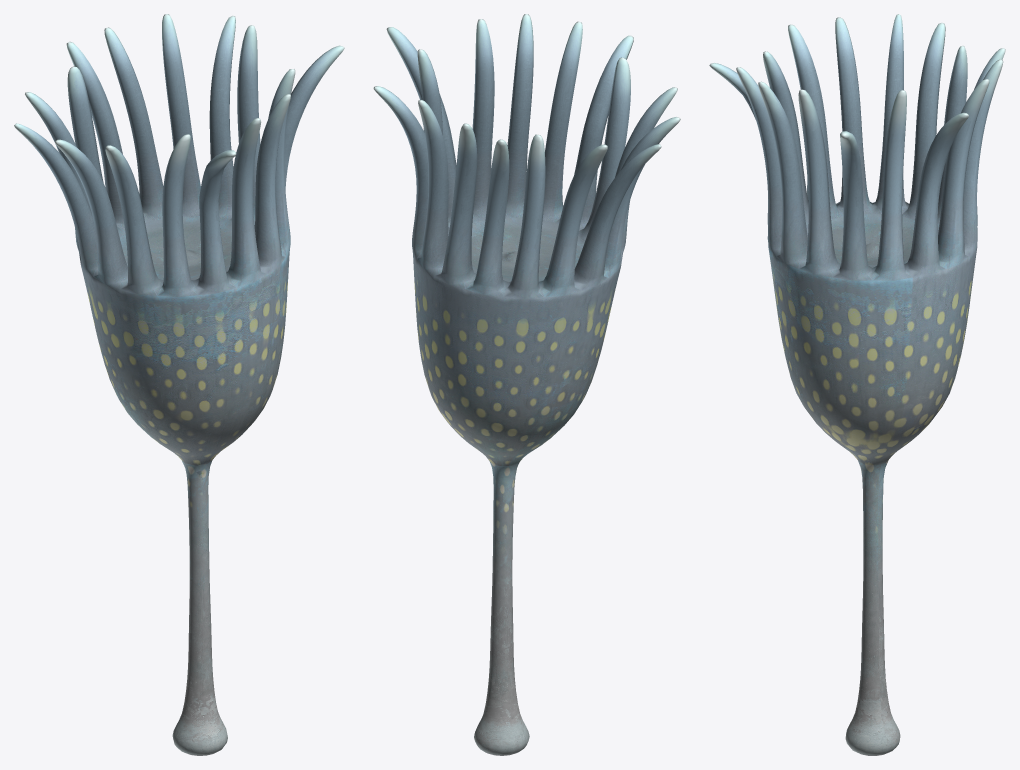
3 renders of one model, left to right at view 1: azimuth 30°, elevation 25°; view 2: azimuth 150°, elevation 25°; view 3: azimuth 270°, elevation 25°, orthographic.
Visible parts, largest first — view 1: Object_2; view 2: Object_2; view 3: Object_2.
Boxes of the visible parts, x1=… form: Object_2: x1=14, y1=14, x2=344, y2=755; Object_2: x1=373, y1=14, x2=680, y2=755; Object_2: x1=709, y1=14, x2=1005, y2=755.
Size of the model in its own units: 3.04 by 6.73 by 2.61.
1 material, 1 textured.
